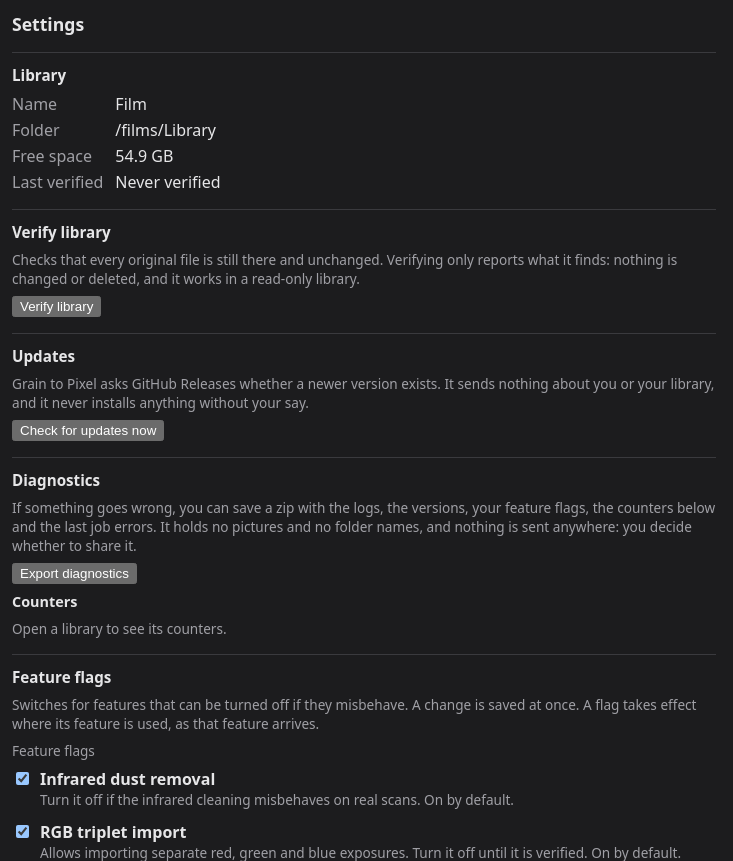
verifying the library from Settings › while it runs › cancels the job, and says nothing was recorded
The image size is (733, 861).
Click the button "Verify library" at (57, 306), box top-left (12, 296), bottom-right (101, 317)
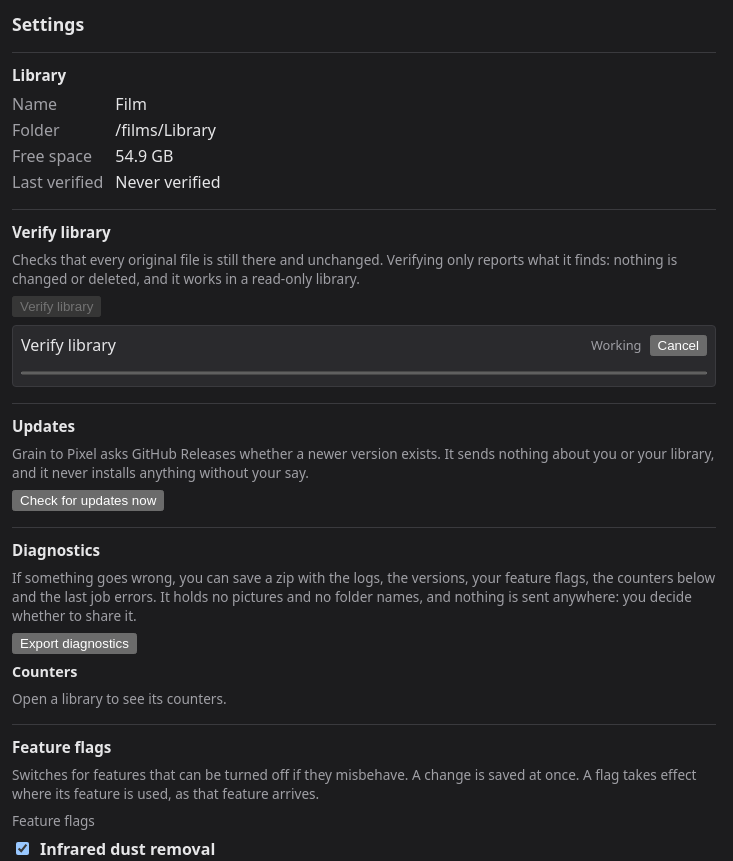
Now the progress indicator named "Verify library" is shown, box top-left (21, 370), bottom-right (707, 376)
Click the button "Cancel" at (678, 345), box top-left (650, 334), bottom-right (707, 356)
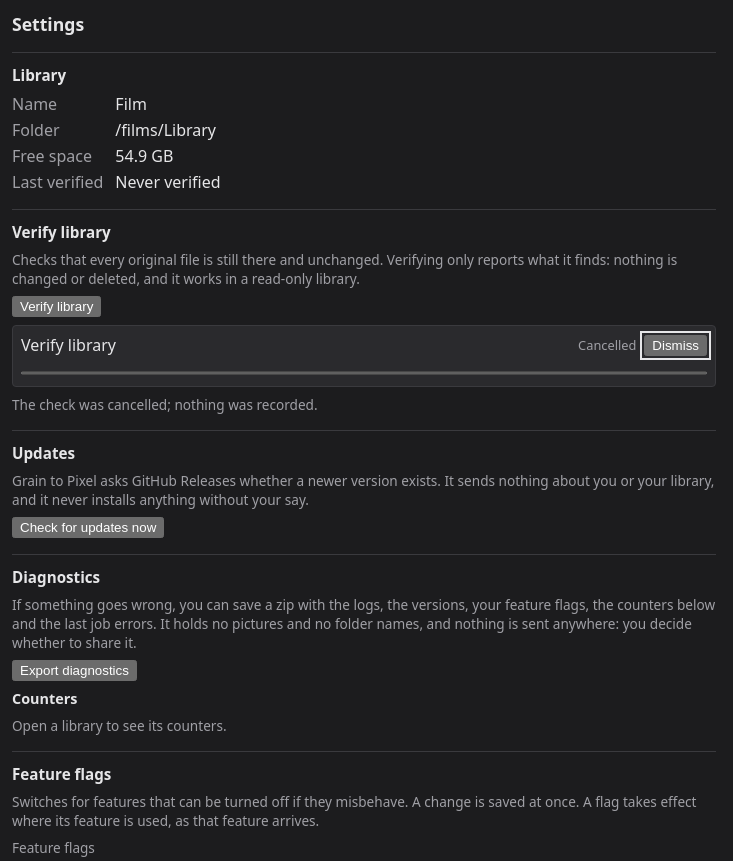
Now the text "The check was cancelled; nothing was recorded." is shown, box top-left (12, 395), bottom-right (318, 414)
Now the button "Verify library" is enabled, box top-left (12, 296), bottom-right (101, 317)
